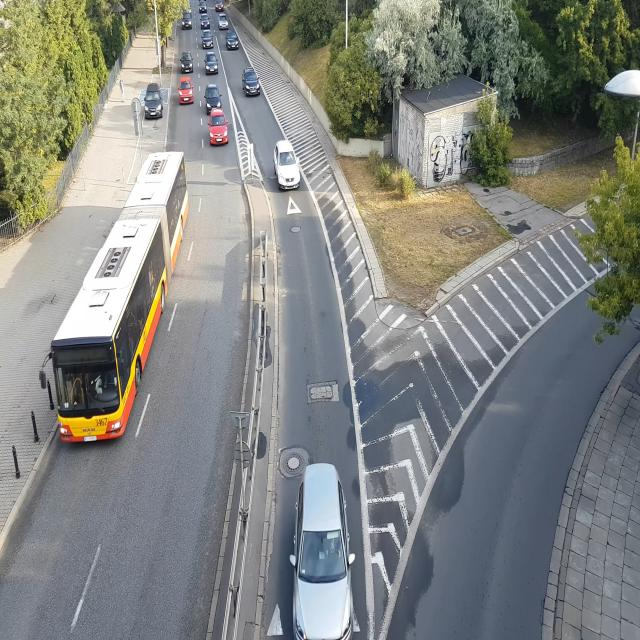bus: (45, 152, 194, 448)
car: (287, 464, 361, 640), (275, 141, 303, 191), (142, 86, 165, 120), (210, 112, 231, 146), (243, 68, 262, 97), (203, 85, 223, 111), (180, 79, 196, 105), (180, 51, 196, 72), (203, 55, 219, 74), (180, 11, 193, 32), (200, 14, 212, 32), (217, 14, 229, 31), (227, 36, 240, 51), (202, 36, 214, 50), (215, 0, 224, 13), (199, 4, 207, 15)
